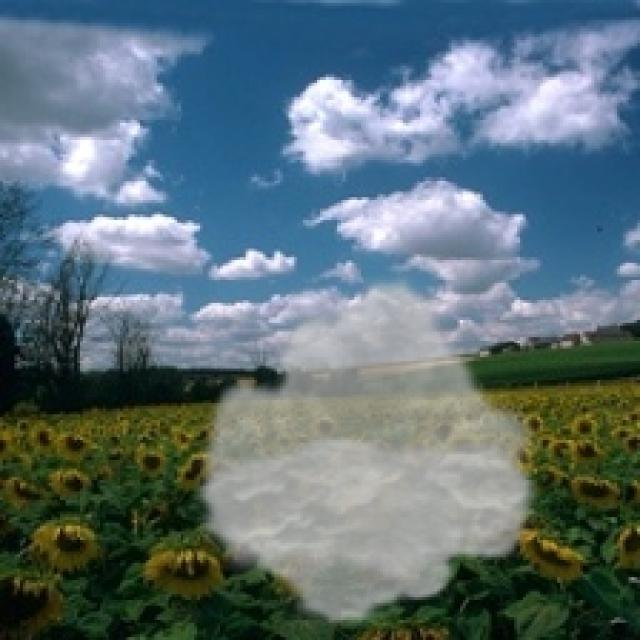smoke: (188, 272, 546, 628)
